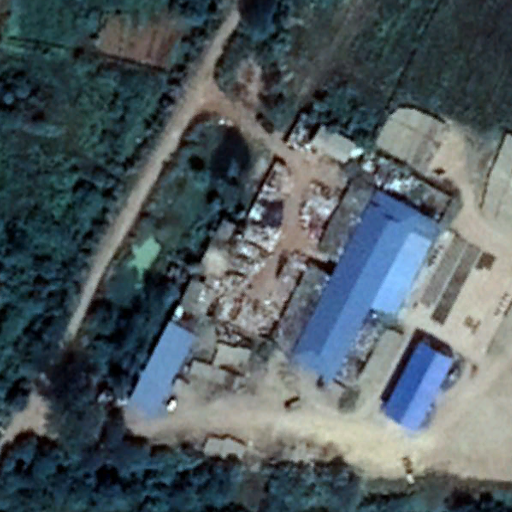msw: (214, 155, 340, 343)
